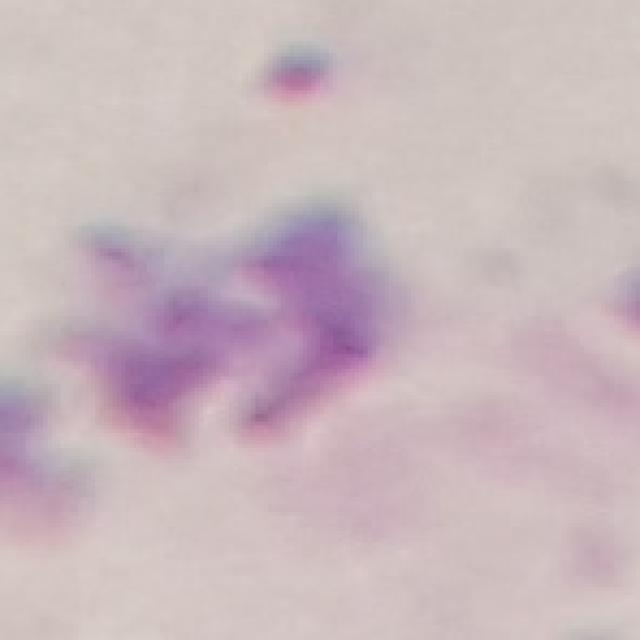non-sperm: (72, 190, 438, 450)
